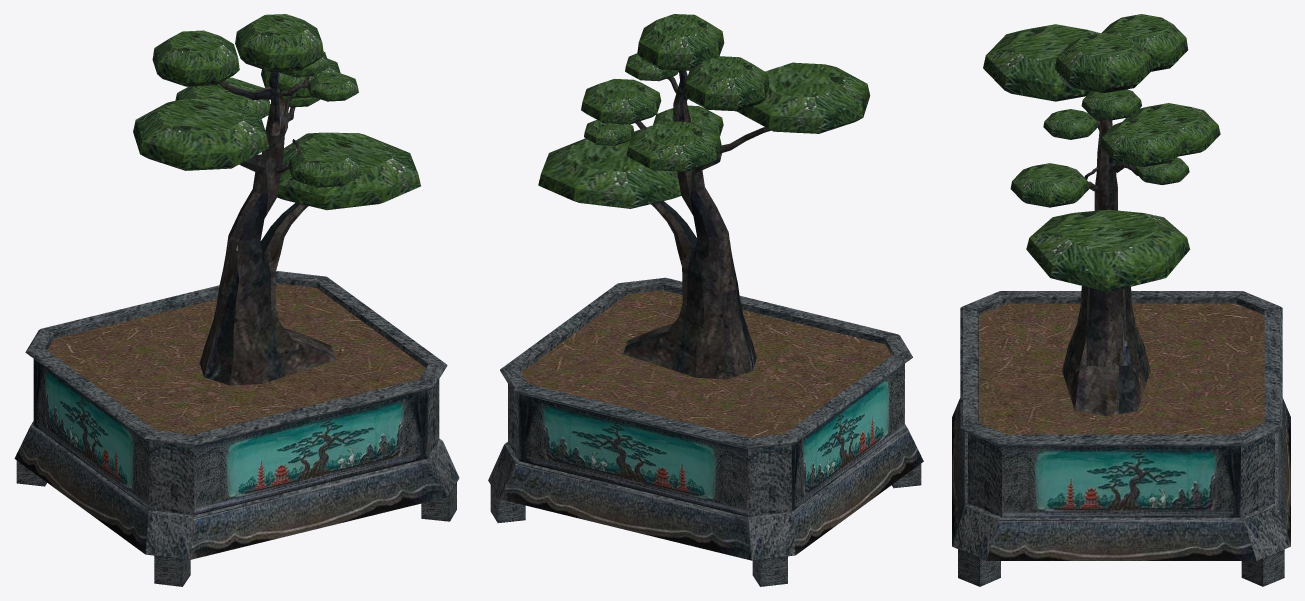
Rendered from cay-tung-dang-viet.glb.
3 renders of one model, left to right at view 1: azimuth 30°, elevation 25°; view 2: azimuth 150°, elevation 25°; view 3: azimuth 270°, elevation 25°, orthographic. The views are drawn at different scales.
Parts seen in each view (by area): view 1: Plane_010; view 2: Plane_010; view 3: Plane_010.
Boxes of the visible parts, box(x1,y1,x2,y2) form: Plane_010: box(14, 14, 459, 586); Plane_010: box(488, 14, 923, 586); Plane_010: box(952, 14, 1290, 586).
Size of the model in its own units: 2.53 by 3.47 by 2.21.
1 material, 1 textured.
